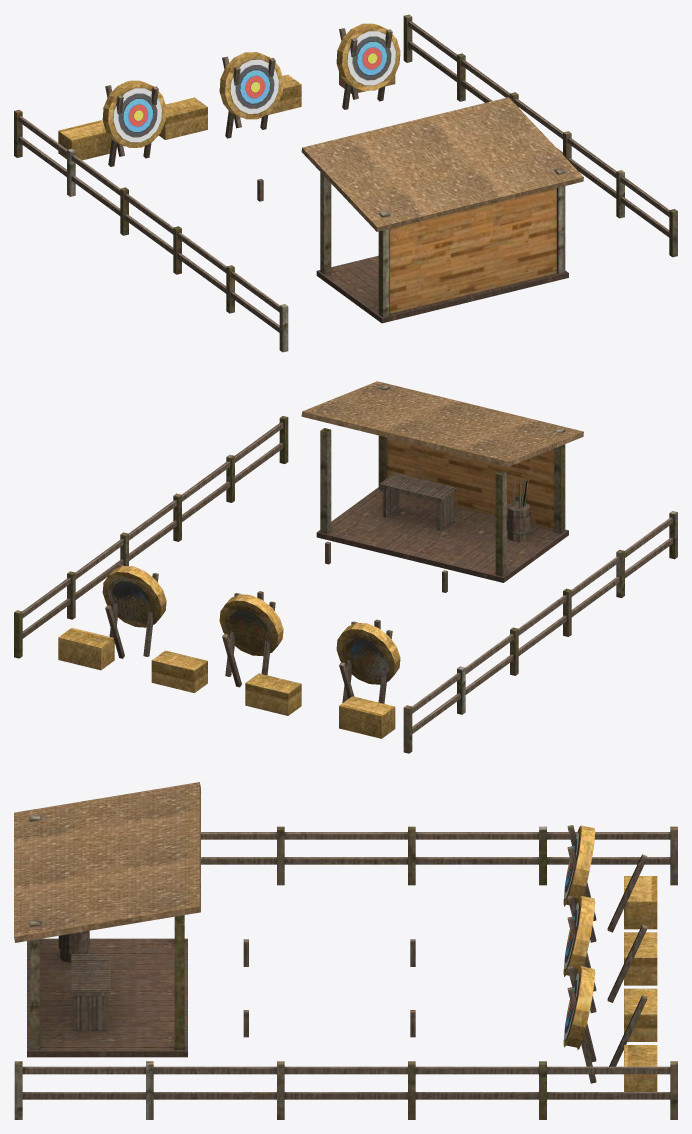
The model's file is range.glb.
3 renders of one model, top to bottom at view 1: azimuth 30°, elevation 25°; view 2: azimuth 150°, elevation 25°; view 3: azimuth 270°, elevation 25°, orthographic. The views are drawn at different scales.
Visible parts, largest first — view 1: range; view 2: range; view 3: range.
Part boxes in pixels (bbox=[...]): range: bbox=[14, 14, 677, 352]; range: bbox=[14, 381, 677, 753]; range: bbox=[14, 782, 677, 1119].
Size of the model in its own units: 10.14 by 3.13 by 11.95.
1 material, 1 textured.
